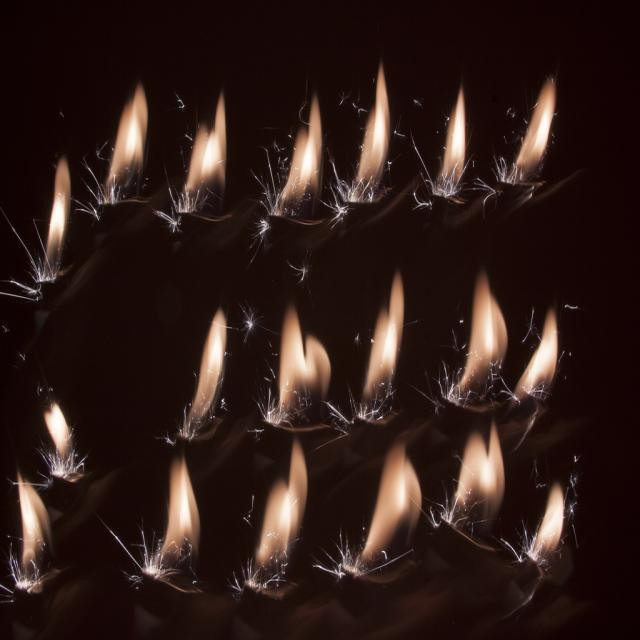Fire: (276, 338, 329, 418), (376, 466, 418, 548), (164, 462, 197, 566), (262, 479, 299, 567), (14, 467, 44, 573), (38, 172, 66, 282), (464, 441, 500, 524), (115, 90, 146, 182), (286, 134, 328, 196), (438, 104, 468, 182), (187, 134, 223, 198), (203, 325, 231, 406), (473, 300, 504, 373), (372, 323, 401, 395), (366, 100, 386, 181), (528, 333, 556, 389), (528, 100, 555, 158), (45, 406, 69, 461), (540, 491, 560, 548)
